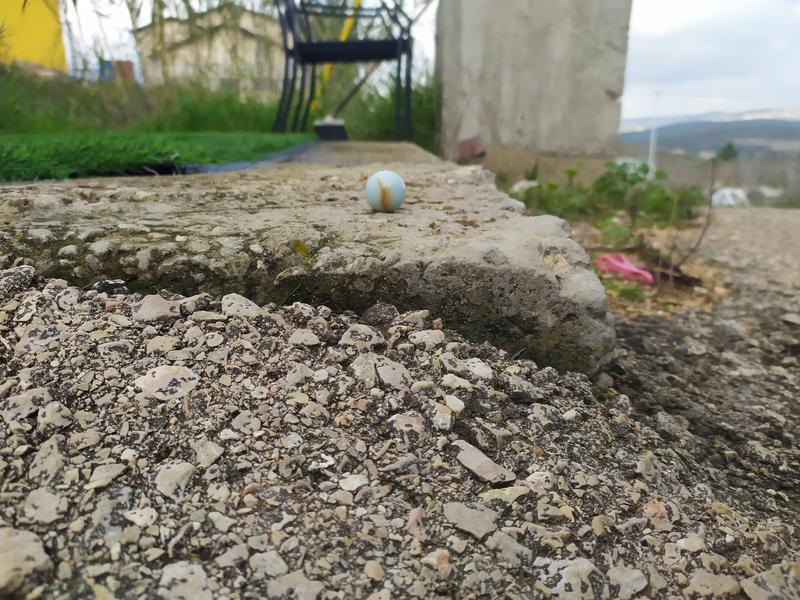Warning: (362, 169, 408, 214)
